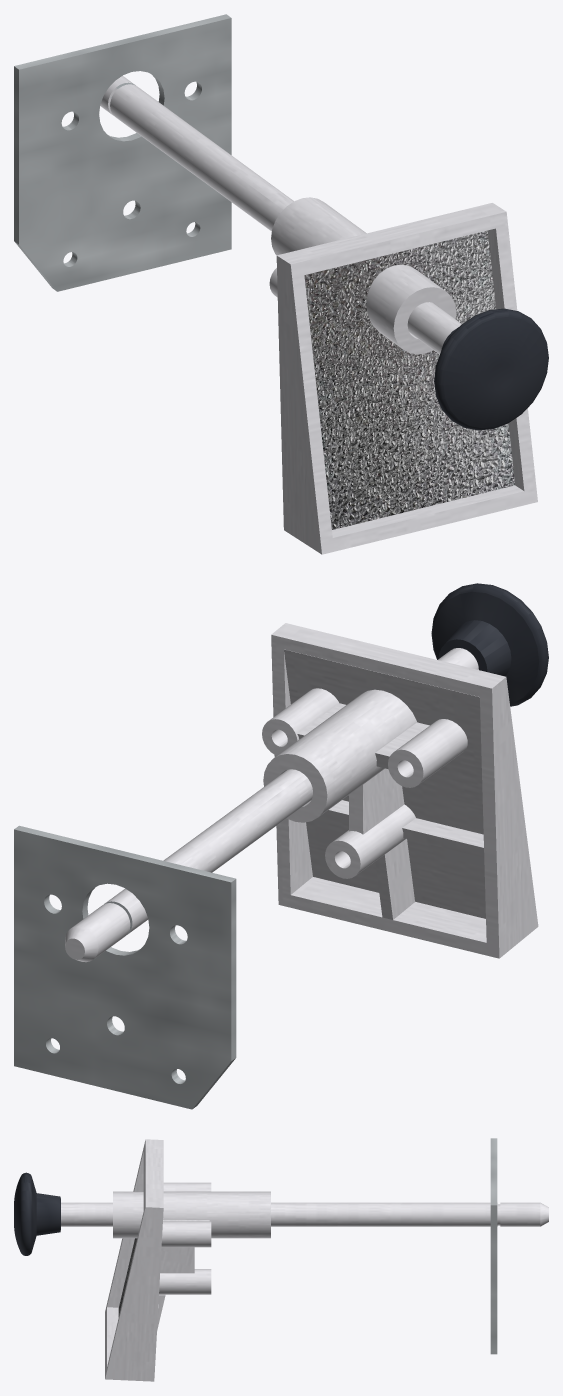
Rendered from pinball_plunger_assembly.glb.
3 views of the same model, one above another, from view 1: azimuth 30°, elevation 25°; view 2: azimuth 150°, elevation 25°; view 3: azimuth 270°, elevation 25° (orthographic). The views are drawn at different scales.
Parts seen in each view (by area): view 1: Material3 (×3), Material2 (×4); view 2: Material2 (×12), Material3 (×2); view 3: Material2 (×9), Material3 (×2).
Boxes of the visible parts, left/top/right/bottom form: Material3 (×3): left=14, top=14, right=548, bottom=529; Material2 (×4): left=110, top=84, right=537, bottom=554; Material2 (×12): left=65, top=623, right=538, bottom=962; Material3 (×2): left=14, top=583, right=548, bottom=1109; Material2 (×9): left=61, top=1139, right=548, bottom=1381; Material3 (×2): left=14, top=1138, right=497, bottom=1354.
Size of the model in its own units: 2.48 by 2.92 by 8.12.
7 materials, 5 textured.
